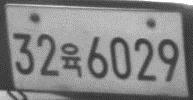0: (109, 36, 131, 79)
2: (36, 33, 60, 77), (134, 37, 157, 82)
3: (11, 32, 35, 76)
6: (87, 35, 108, 79)
9: (156, 38, 180, 82)
육: (60, 42, 83, 78)
